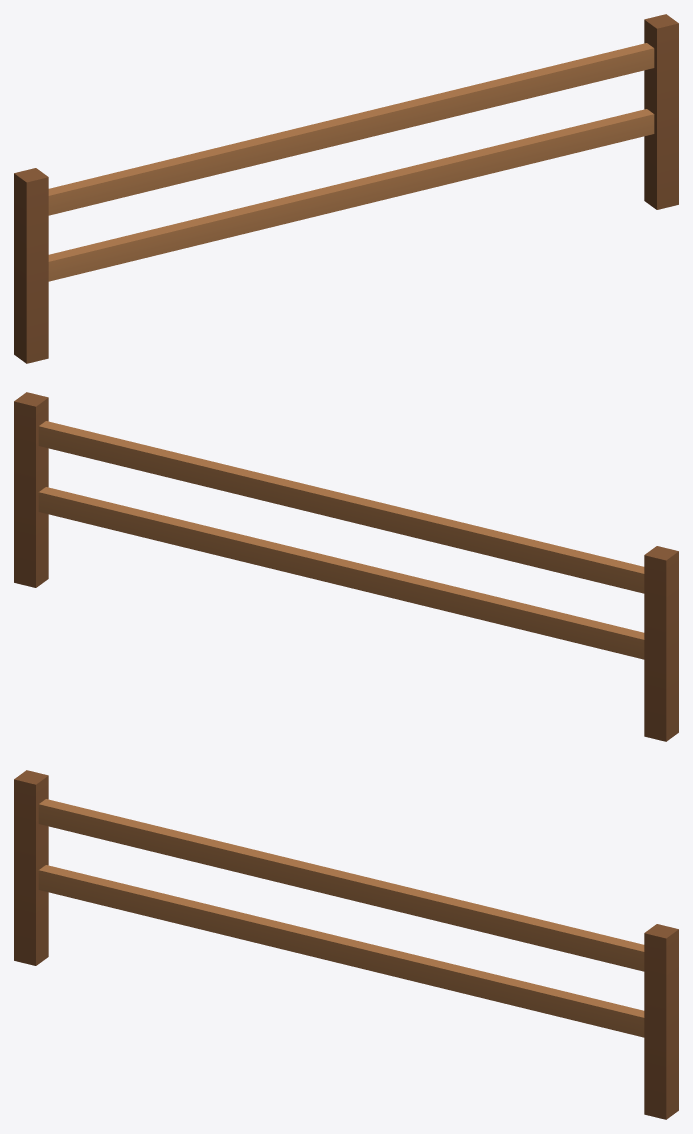
File: fence.glb
The picture shows the model from 3 angles, top to bottom: view 1: azimuth 30°, elevation 25°; view 2: azimuth 150°, elevation 25°; view 3: azimuth 330°, elevation 25°; orthographic projection.
Visible parts, largest first — view 1: fence; view 2: fence; view 3: fence.
Boxes of the visible parts, left/top/right/bottom form: fence: left=14, top=14, right=678, bottom=363; fence: left=14, top=392, right=678, bottom=741; fence: left=14, top=770, right=678, bottom=1119.
Size of the model in its own units: 4.14 by 1.1 by 0.14.
Materials: 1 (1 with a texture image).
